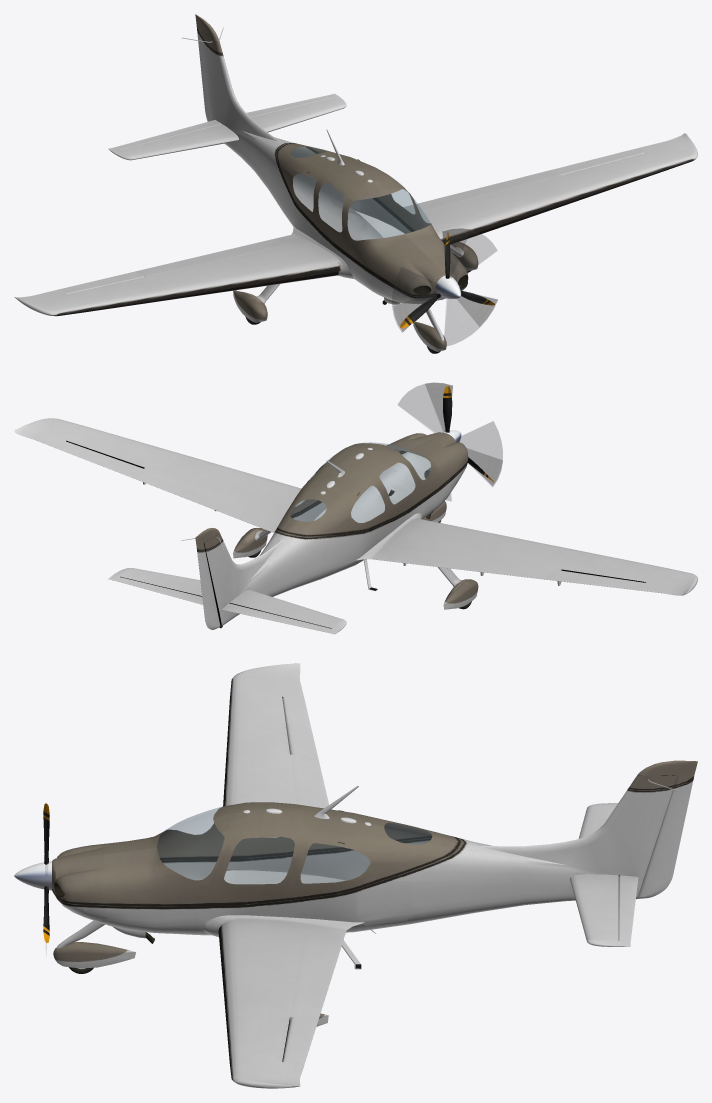
The picture shows the model from 3 angles, top to bottom: view 1: azimuth 30°, elevation 25°; view 2: azimuth 150°, elevation 25°; view 3: azimuth 270°, elevation 25°; orthographic projection. The views are drawn at different scales.
Parts seen in each view (by area): view 1: body, fuselage_rear, wing_right_inner, propeller_disc, wing_left_outer, wing_left_inner, wing_right_outer, stab, fin, flap_left, flap_right, propeller_blades (+4 smaller); view 2: body, fuselage_rear, wing_right_inner, wing_left_outer, wing_right_outer, wing_left_inner, propeller_disc, stab, flap_left, flap_right, fin, elevator (+4 smaller); view 3: body, fuselage_rear, wing_right_outer, fin, wing_left_inner, wing_left_outer, rudder, stab, wing_right_inner, flap_left, flap_right, aileron_right (+3 smaller).
Boxes of the visible parts, <box> form: body: <box>256,144,469,353</box>; fuselage_rear: <box>224,113,374,239</box>; wing_right_inner: <box>179,236,343,324</box>; propeller_disc: <box>392,228,497,346</box>; wing_left_outer: <box>525,133,697,210</box>; wing_left_inner: <box>374,185,550,272</box>; wing_right_outer: <box>14,269,205,316</box>; stab: <box>120,98,344,159</box>; fin: <box>182,27,245,152</box>; flap_left: <box>403,170,560,214</box>; flap_right: <box>134,238,289,276</box>; propeller_blades: <box>400,231,494,328</box>; body: <box>246,432,468,586</box>; fuselage_rear: <box>181,460,391,628</box>; wing_right_inner: <box>374,517,547,609</box>; wing_left_outer: <box>14,418,202,484</box>; wing_right_outer: <box>525,544,697,595</box>; wing_left_inner: <box>180,460,326,558</box>; propeller_disc: <box>398,382,502,500</box>; stab: <box>120,568,343,628</box>; flap_left: <box>134,468,283,532</box>; flap_right: <box>390,546,561,585</box>; fin: <box>182,532,251,621</box>; elevator: <box>108,568,346,634</box>; body: <box>52,798,339,973</box>; fuselage_rear: <box>339,786,679,969</box>; wing_right_outer: <box>224,663,304,782</box>; fin: <box>568,775,678,894</box>; wing_left_inner: <box>215,918,339,1026</box>; wing_left_outer: <box>224,994,304,1088</box>; rudder: <box>637,760,697,898</box>; stab: <box>570,806,618,940</box>; wing_right_inner: <box>223,776,339,884</box>; flap_left: <box>290,934,343,1020</box>; flap_right: <box>290,754,328,808</box>; aileron_right: <box>282,697,318,757</box>.
Bounding box in the file's own units: 11.58 × 2.71 × 7.91.
3 materials, 3 textured.
